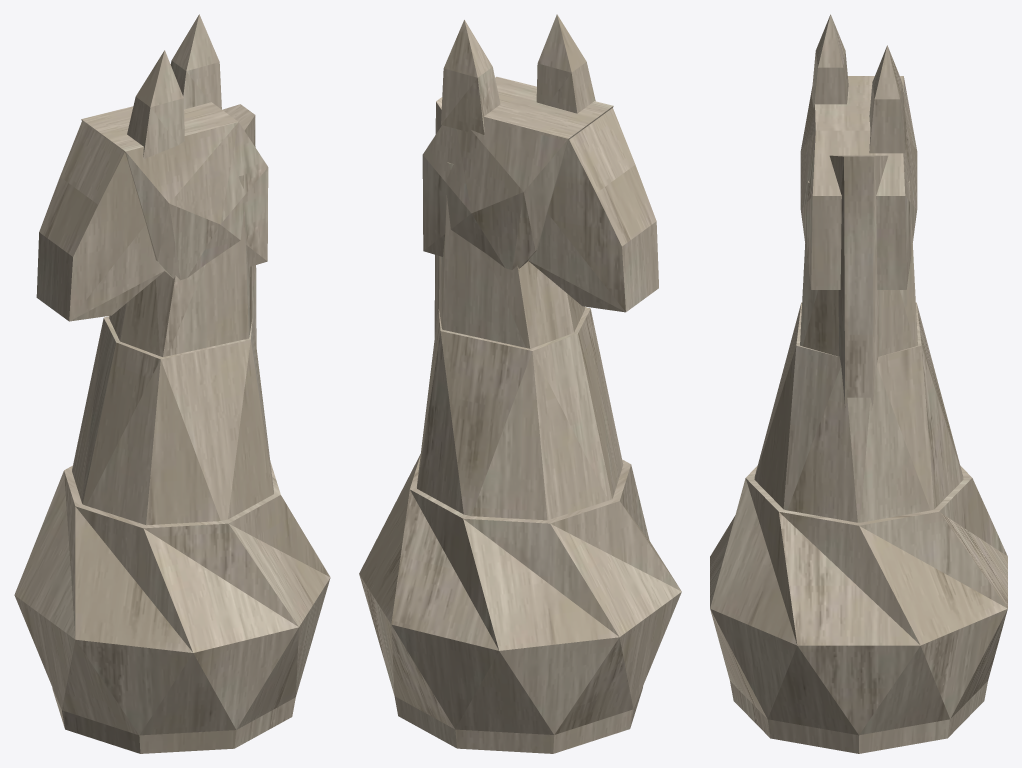
Rendered from lithoxyl_knight_white.glb.
3 renders of one model, left to right at view 1: azimuth 30°, elevation 25°; view 2: azimuth 150°, elevation 25°; view 3: azimuth 270°, elevation 25°, orthographic. The views are drawn at different scales.
Visible parts, largest first — view 1: Lithoxyl_Knight_Ivory; view 2: Lithoxyl_Knight_Ivory; view 3: Lithoxyl_Knight_Ivory.
Part boxes in pixels (bbox=[...]): Lithoxyl_Knight_Ivory: bbox=[14, 14, 330, 753]; Lithoxyl_Knight_Ivory: bbox=[359, 14, 681, 753]; Lithoxyl_Knight_Ivory: bbox=[710, 14, 1007, 753].
Size of the model in its own units: 0.0255 by 0.064 by 0.0255.
Materials: 1 (1 with a texture image).
